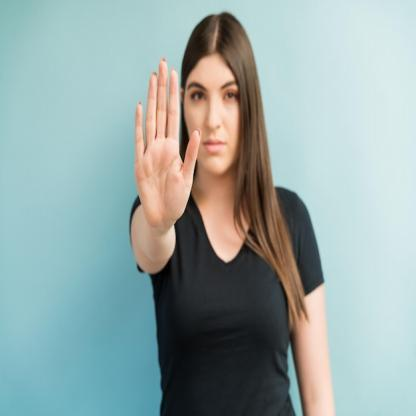stop: (130, 54, 206, 233)
